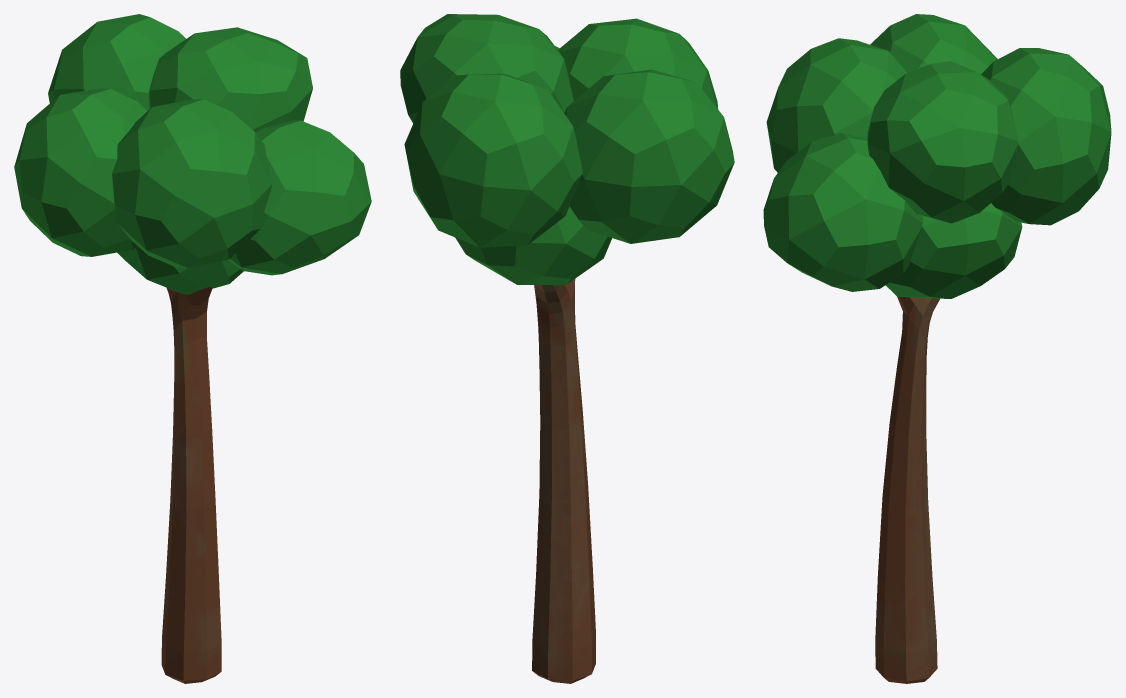
Rendered from tree1.fbx.
3 renders of one model, left to right at view 1: azimuth 30°, elevation 25°; view 2: azimuth 150°, elevation 25°; view 3: azimuth 270°, elevation 25°, orthographic. The views are drawn at different scales.
Parts seen in each view (by area): view 1: Icosphere.004; view 2: Icosphere.004; view 3: Icosphere.004.
Part boxes in pixels (x1,y1,x2,y2): Icosphere.004: (14, 14, 371, 683); Icosphere.004: (400, 14, 734, 683); Icosphere.004: (763, 14, 1111, 683).
Bounding box in the file's own units: 470 × 916 × 461.
Materials: 1 (1 with a texture image).
